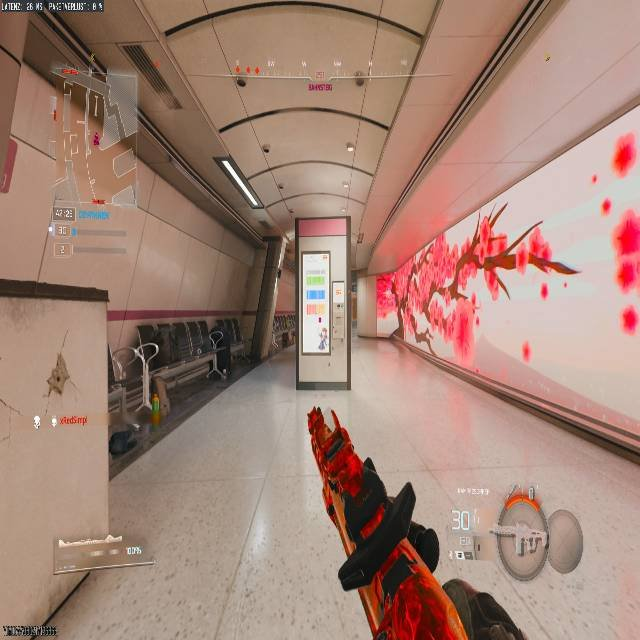player: (208, 322, 233, 382), (318, 327, 328, 350)
